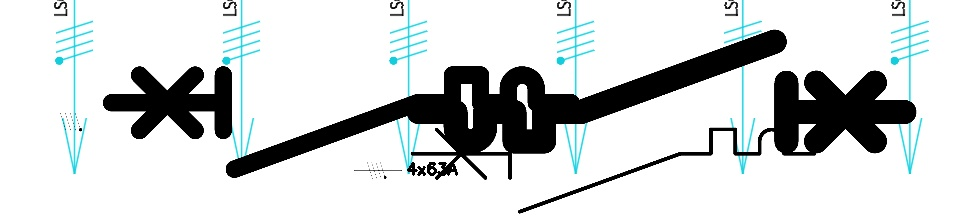interruptor_termomagnetico: (406, 29, 916, 154), (99, 63, 582, 181), (401, 119, 824, 222)
